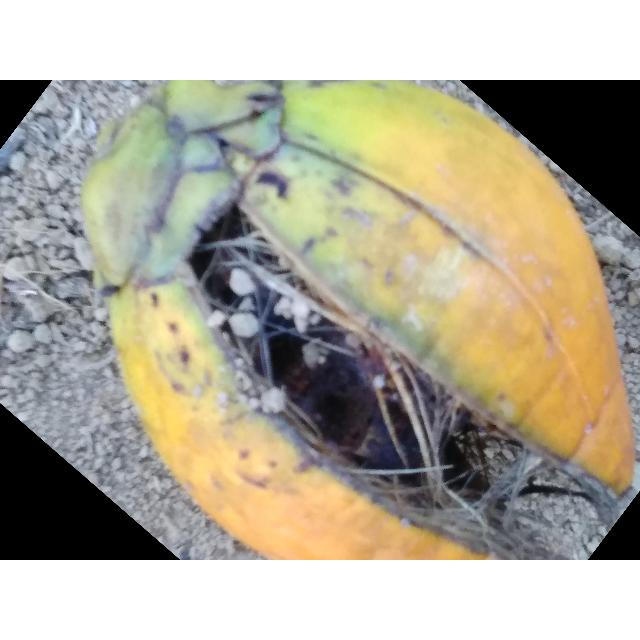damaged: (80, 80, 640, 560)
